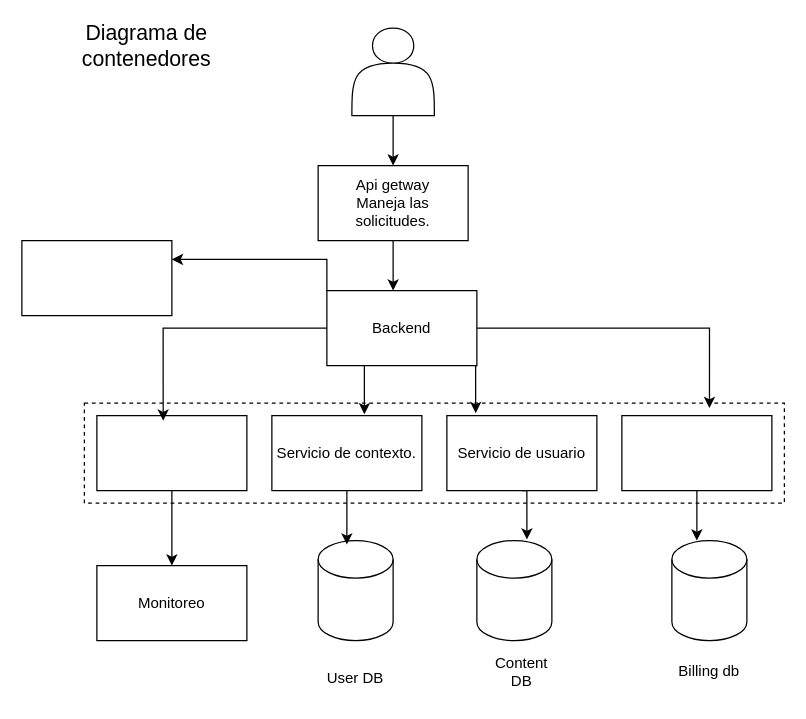
Image size: 806x719. Some labels were removed from this diagram. The shapes that lost their labels are listed below. From the top down, each one's centre as x and y in pixels, then its label:
At pixel 96 277: "Dato analíticos.".
At pixel 171 452: "Recomendación de servicios.".
At pixel 696 452: "Servicio de facturación.".
